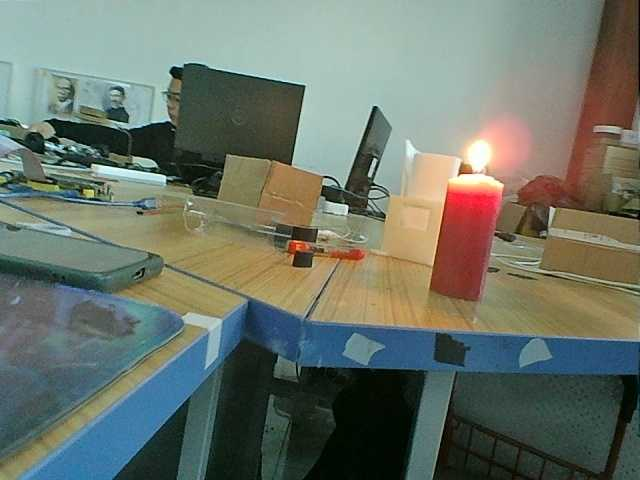candle: (436, 178, 506, 317)
fire: (448, 137, 519, 189)
